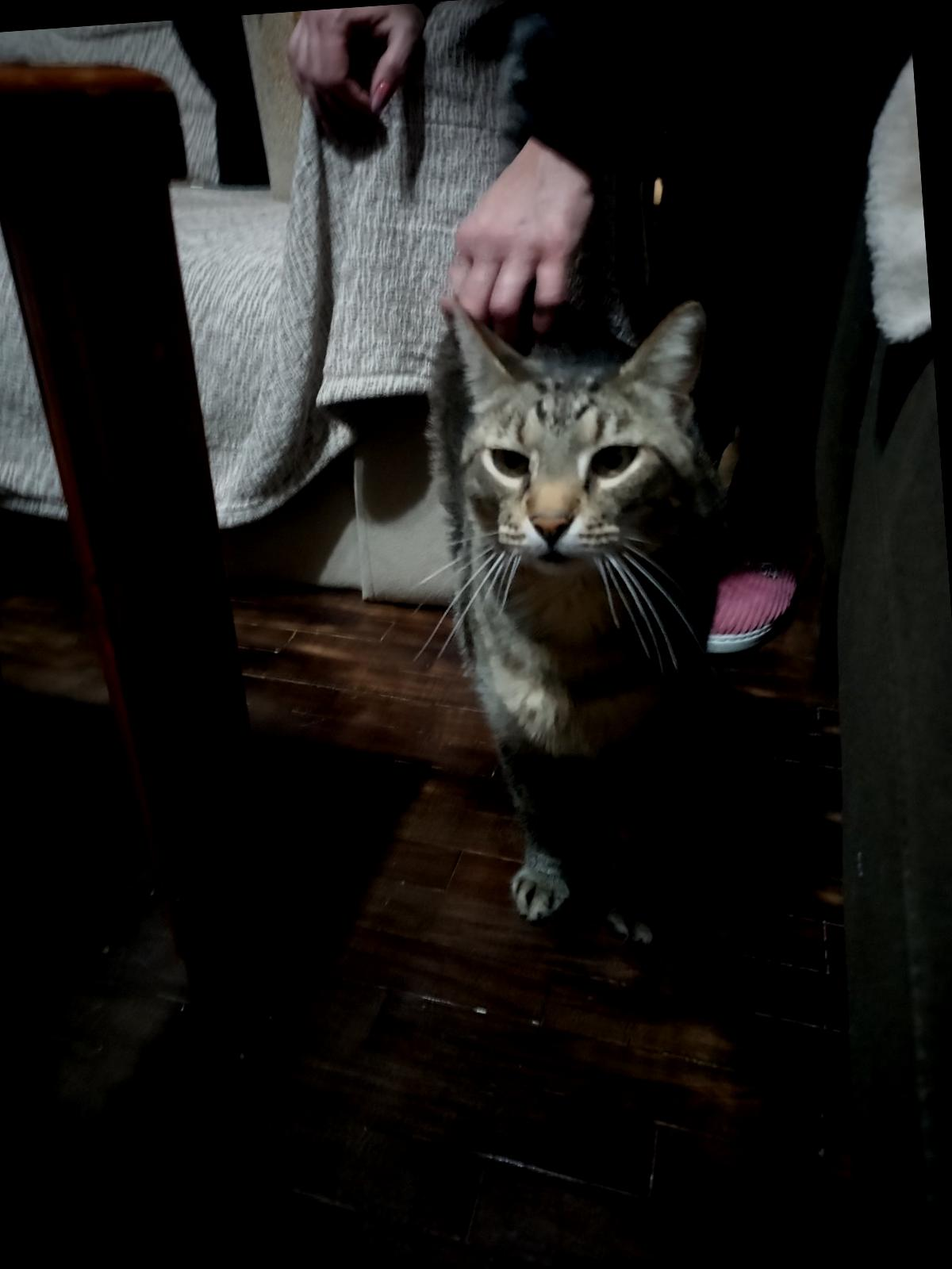macka: (424, 288, 756, 961)
